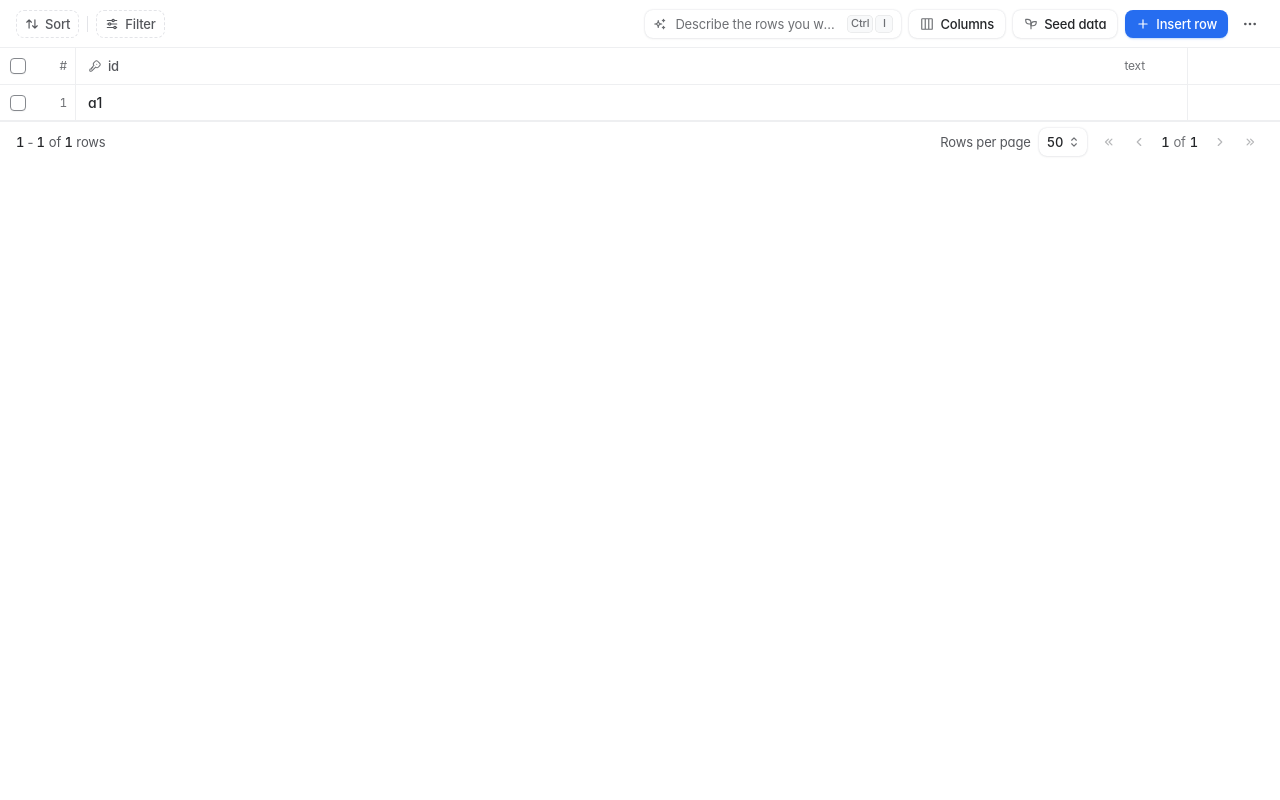
Test: when the AI filter drops conditions it could not make executable › applies the conditions that survived and still says what went
Expected: the text "a1" is shown, left=88, top=94, right=102, bottom=110
Click the button with aria-label "natural language" at (773, 24), box left=645, top=10, right=901, bottom=38
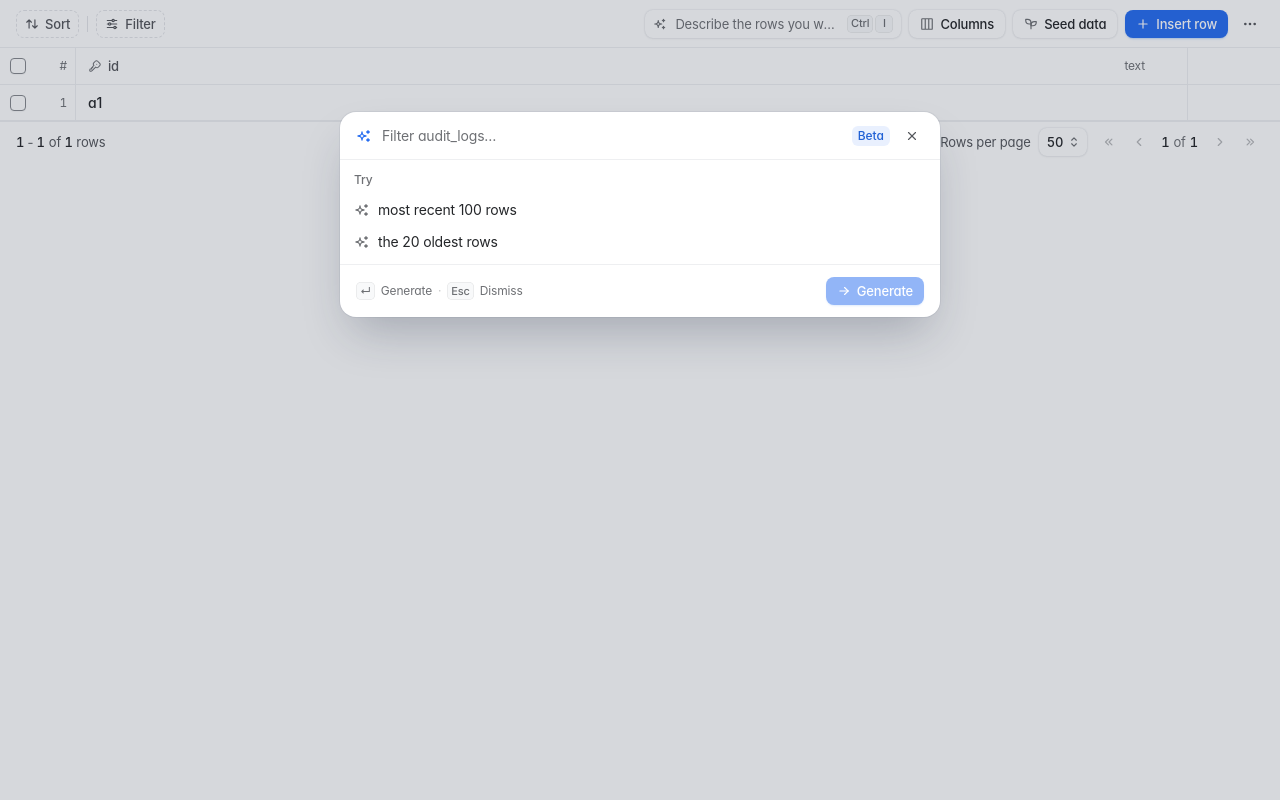
Type "rows where action is banana" into the field with placeholder "Filter audit_logs…" at (612, 136), box left=382, top=126, right=842, bottom=146
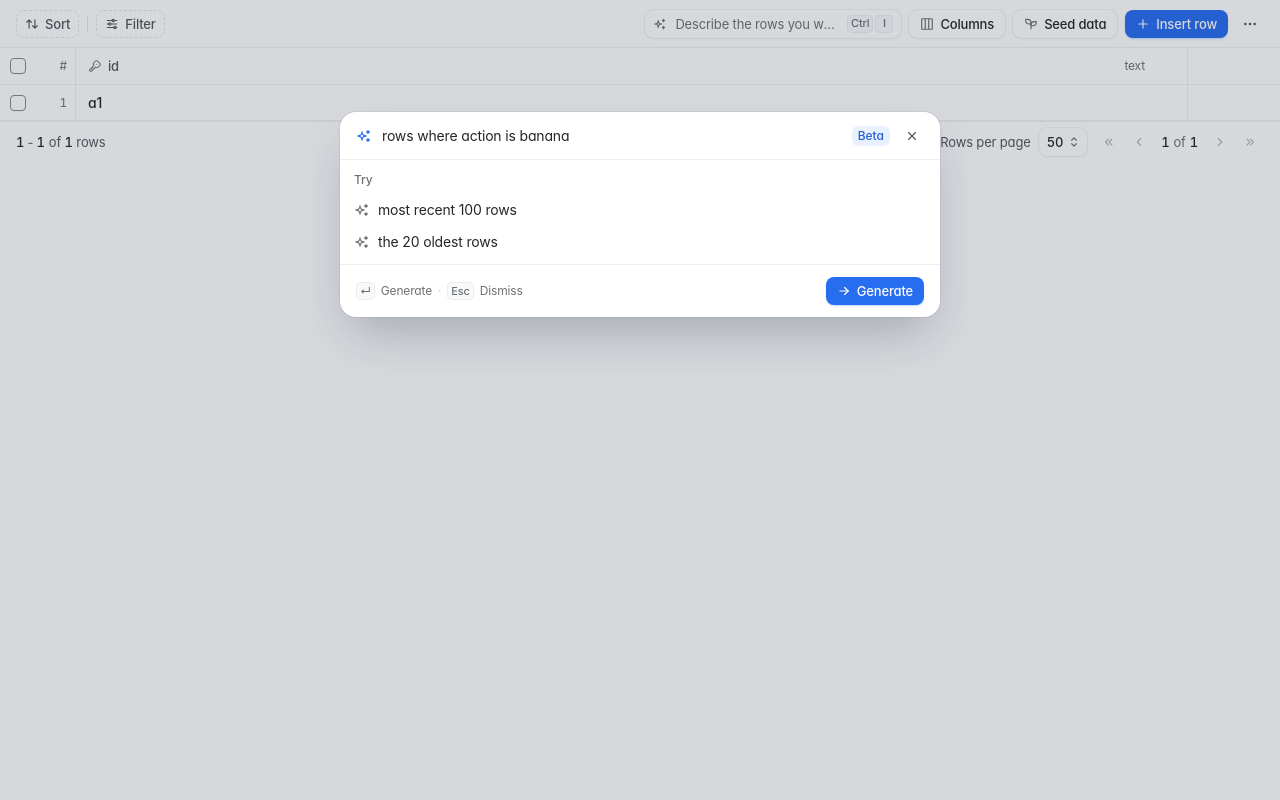
Press Enter in the field with placeholder "Filter audit_logs…", box left=382, top=126, right=842, bottom=146
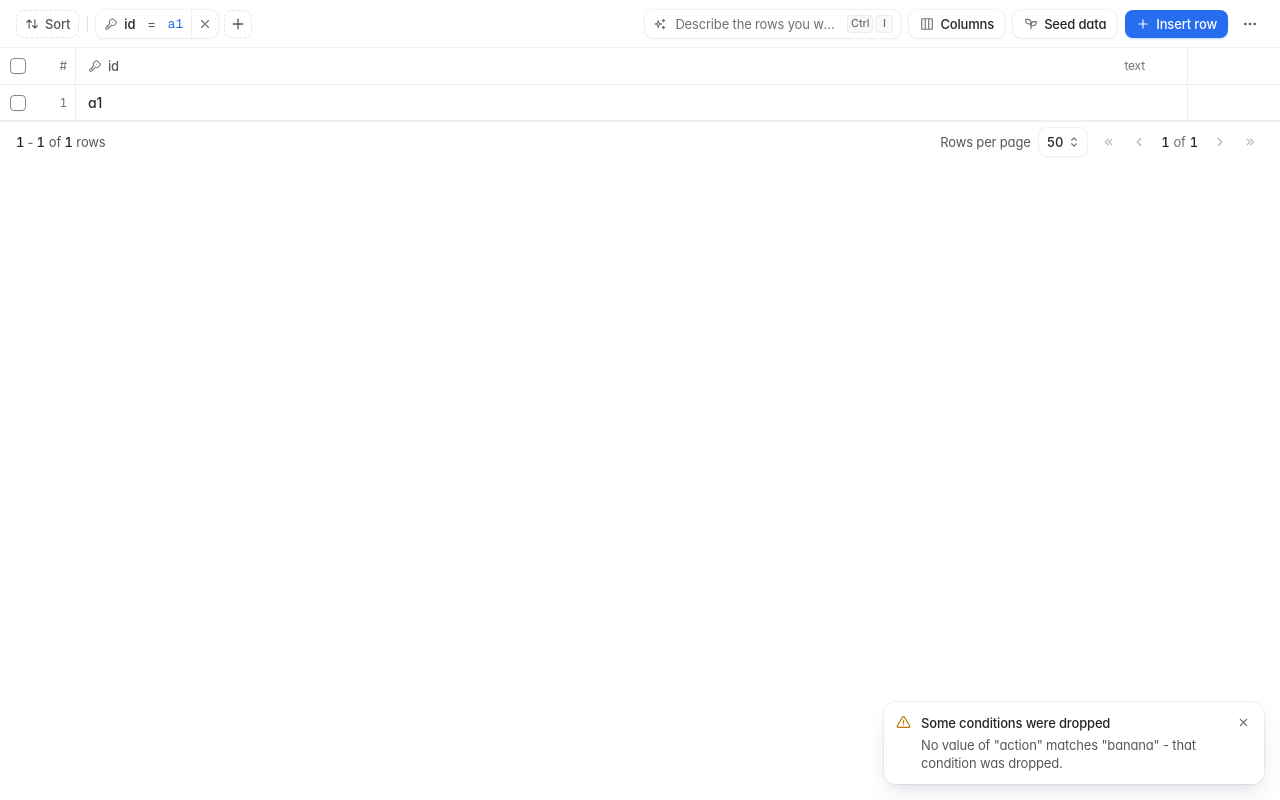
Expected: the text "Some conditions were dropped" is shown, left=921, top=714, right=1110, bottom=732
